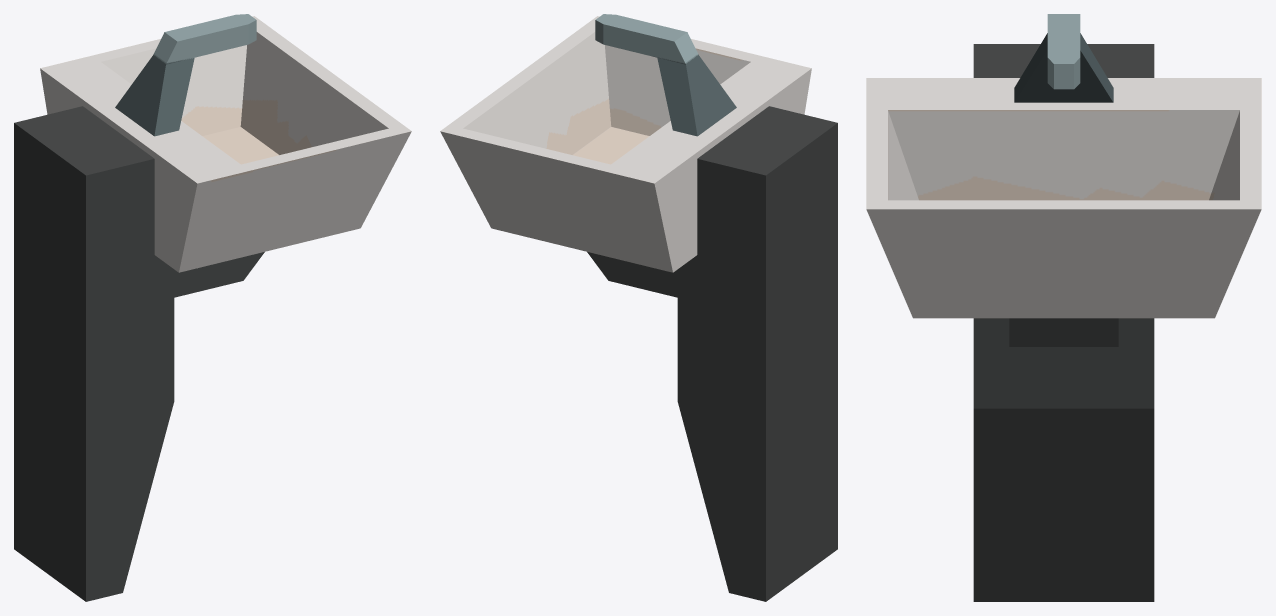
Rendered from sink.obj.
3 renders of one model, left to right at view 1: azimuth 30°, elevation 25°; view 2: azimuth 150°, elevation 25°; view 3: azimuth 270°, elevation 25°, orthographic. The views are drawn at different scales.
Parts seen in each view (by area): view 1: Cube.002, Cube, Cube.001; view 2: Cube.002, Cube, Cube.001; view 3: Cube, Cube.002, Cube.001.
Part boxes in pixels (left/top/right/bottom): Cube.002: left=14, top=106, right=264, bottom=601; Cube: left=40, top=16, right=411, bottom=272; Cube.001: left=115, top=14, right=256, bottom=136; Cube.002: left=587, top=106, right=837, bottom=601; Cube: left=440, top=16, right=811, bottom=272; Cube.001: left=595, top=14, right=736, bottom=136; Cube: left=866, top=78, right=1261, bottom=318; Cube.002: left=973, top=44, right=1154, bottom=601; Cube.001: left=1014, top=14, right=1113, bottom=102.
Size of the model in its own units: 3.21 by 5.51 by 3.09.
Materials: 3 (3 with a texture image).
